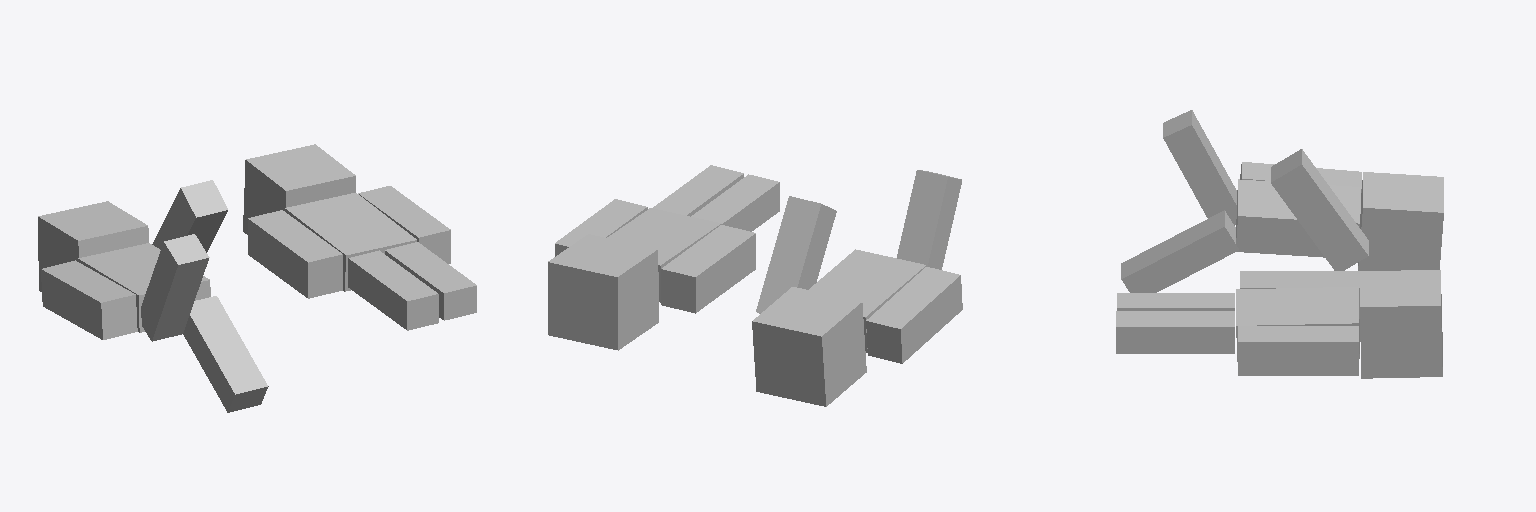
Rendered from steve_000022.obj.
3 renders of one model, left to right at view 1: azimuth 30°, elevation 25°; view 2: azimuth 150°, elevation 25°; view 3: azimuth 270°, elevation 25°, orthographic.
Parts seen in each view (by area): view 1: Cube.001_Cube.002, Cube_Cube.001; view 2: Cube_Cube.001, Cube.001_Cube.002; view 3: Cube.001_Cube.002, Cube_Cube.001.
Part boxes in pixels (left/top/right/bottom): Cube.001_Cube.002: left=243, top=144, right=476, bottom=330; Cube_Cube.001: left=38, top=180, right=268, bottom=412; Cube_Cube.001: left=752, top=170, right=962, bottom=406; Cube.001_Cube.002: left=548, top=165, right=779, bottom=350; Cube.001_Cube.002: left=1116, top=270, right=1442, bottom=378; Cube_Cube.001: left=1121, top=110, right=1443, bottom=292.
Size of the model in its own units: 6.55 by 2.88 by 5.36.